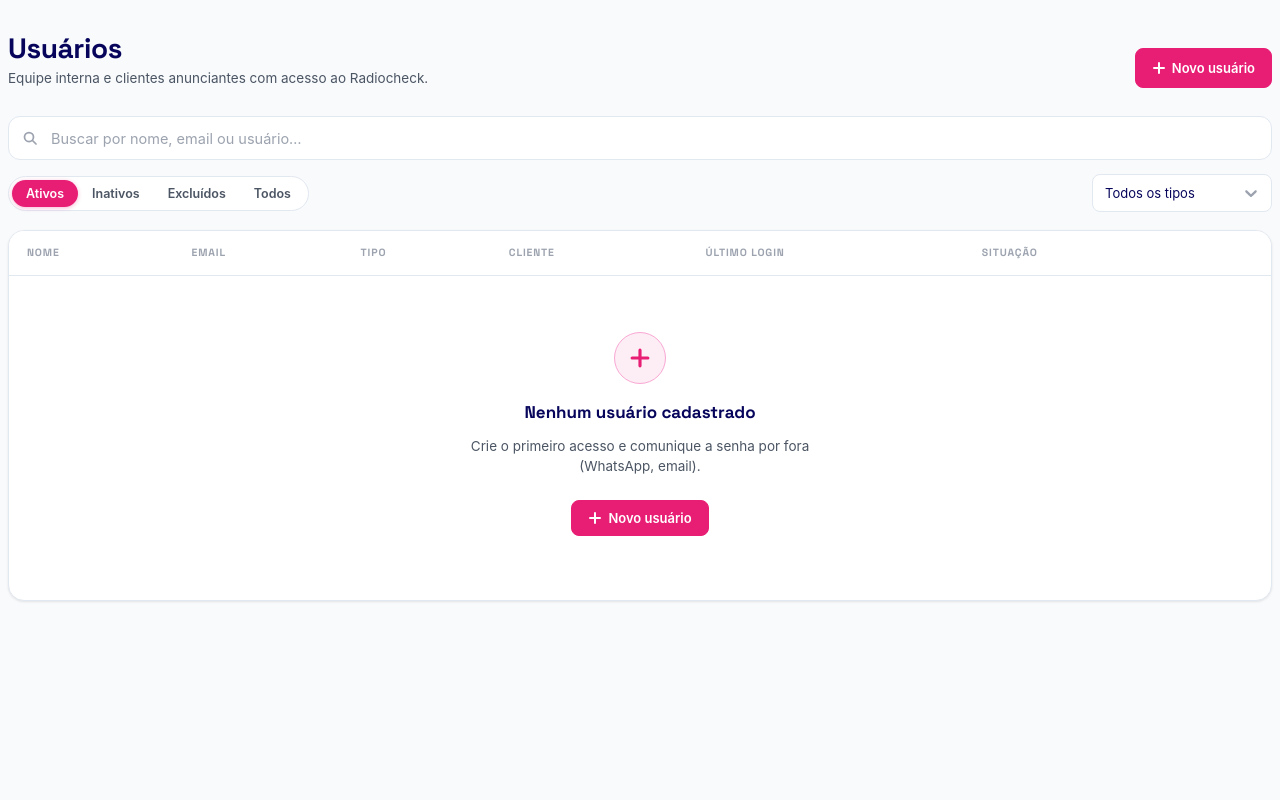
Test: AdminUsersPage › lista vazia com filtro oferece "Limpar filtros"; sem filtro oferece criar o primeiro acesso
Expected: the heading "Nenhum usuário cadastrado" is shown, [524, 400, 756, 426]
Type "zzz" into the field named "Buscar usuários" at (640, 138), box [8, 116, 1272, 160]
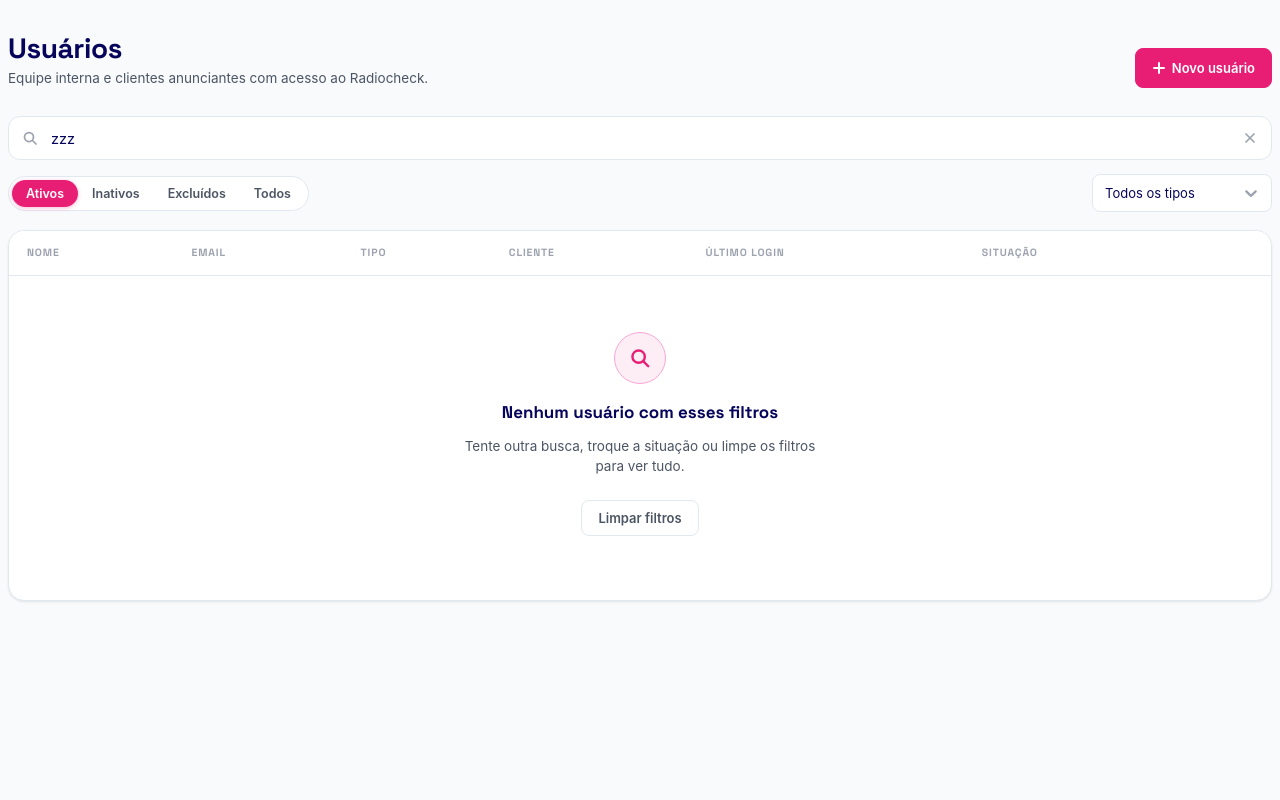
Result: the heading "Nenhum usuário com esses filtros" is shown at [502, 400, 778, 426]
Click the button "Limpar filtros" at (640, 518), box [581, 500, 699, 536]
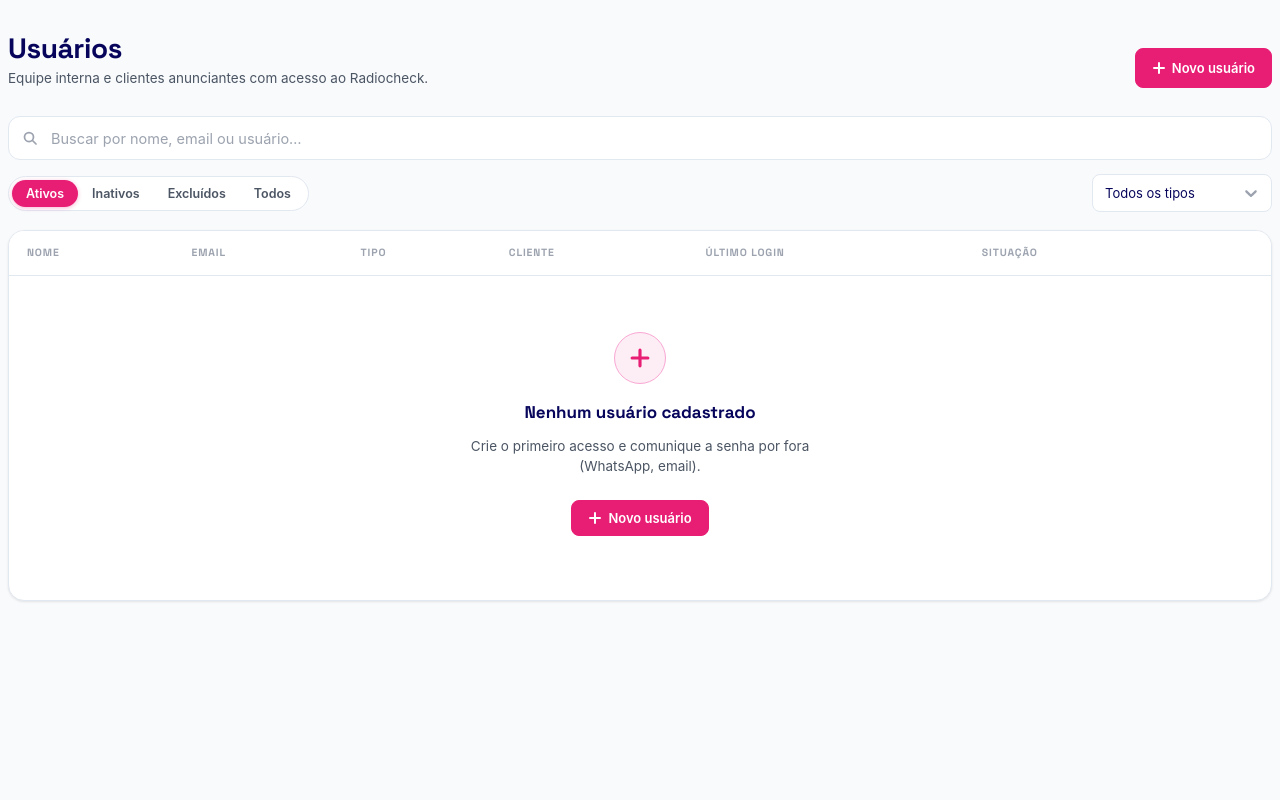
Result: the heading "Nenhum usuário cadastrado" is shown at [524, 400, 756, 426]
Result: the field named "Buscar usuários" is empty at [8, 116, 1272, 160]
